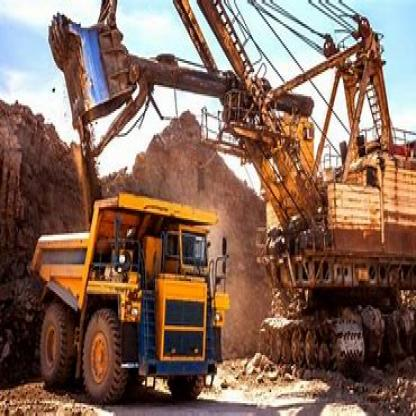dump_truck: (25, 185, 233, 401)
